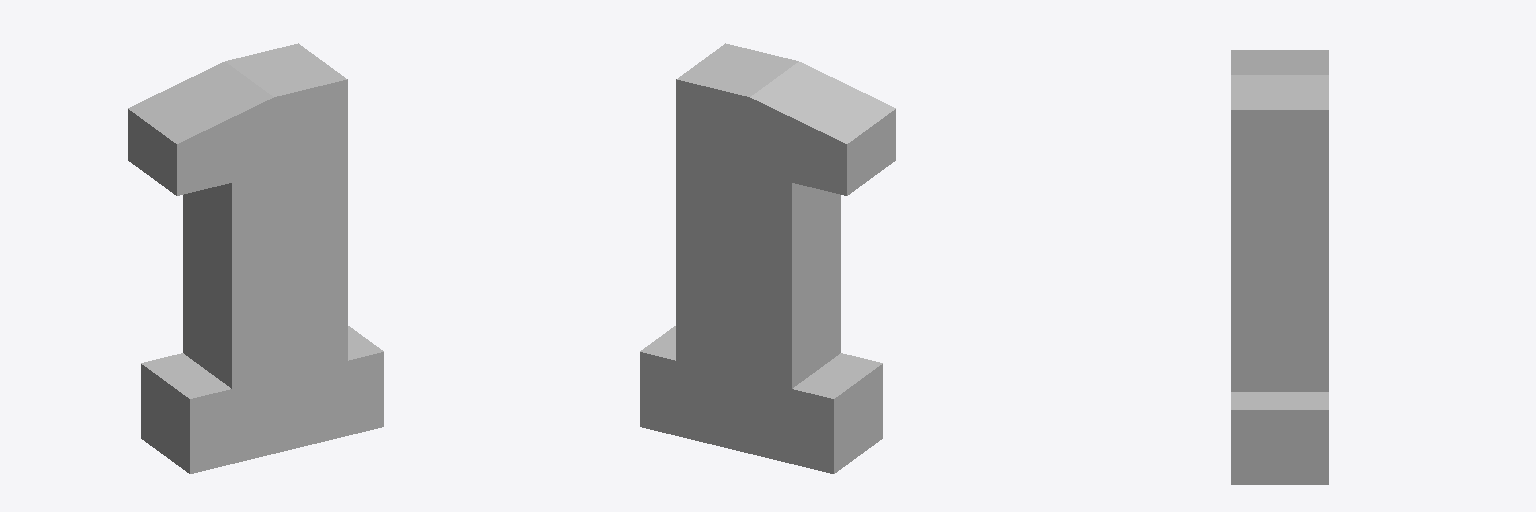
3 views of the same model, side by side, from view 1: azimuth 30°, elevation 25°; view 2: azimuth 150°, elevation 25°; view 3: azimuth 270°, elevation 25° (orthographic).
Parts seen in each view (by area): view 1: text: ABCDEFGHIJKLMNOPQRSTUVWXYZ[number redacted]; view 2: text: ABCDEFGHIJKLMNOPQRSTUVWXYZ[number redacted]; view 3: text: ABCDEFGHIJKLMNOPQRSTUVWXYZ[number redacted].
Boxes of the visible parts, box(x1,y1,x2,y2) form: text: ABCDEFGHIJKLMNOPQRSTUVWXYZ[number redacted]: box(128, 43, 383, 473); text: ABCDEFGHIJKLMNOPQRSTUVWXYZ[number redacted]: box(640, 43, 895, 473); text: ABCDEFGHIJKLMNOPQRSTUVWXYZ[number redacted]: box(1231, 50, 1328, 484).
Bounding box in the file's own units: 60.93 × 100 × 25.